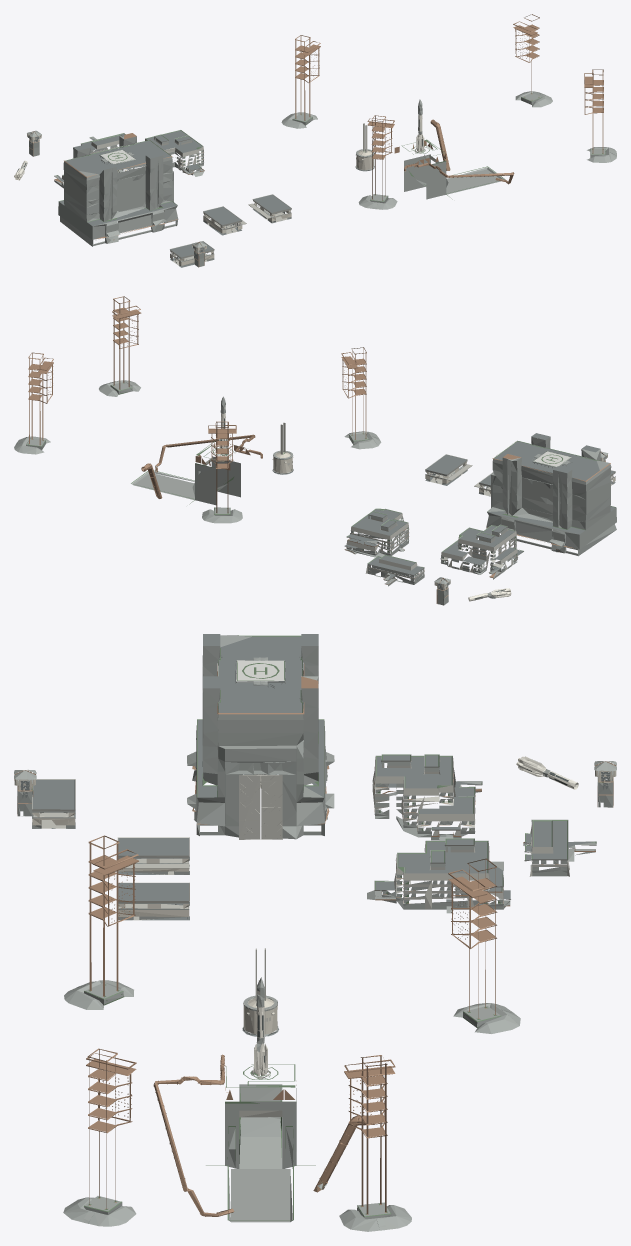
Rendered from launch_site_1.glb.
3 views of the same model, one above another, from view 1: azimuth 30°, elevation 25°; view 2: azimuth 150°, elevation 25°; view 3: azimuth 270°, elevation 25° (orthographic). The views are drawn at different scales.
Visible parts, largest first — view 1: rocket_factory_silo_LOD0, range_core_exterior_LOD0; view 2: rocket_factory_silo_LOD0, range_core_exterior_LOD0; view 3: rocket_factory_silo_LOD0, range_core_exterior_LOD0, rocket_boosters_stage_a_LOD0, rocket_factory_scaffolding_LOD0.
Boxes of the visible parts, bbox=[...] form: rocket_factory_silo_LOD0: bbox=[14, 91, 616, 267]; range_core_exterior_LOD0: bbox=[29, 14, 603, 267]; rocket_factory_silo_LOD0: bbox=[14, 380, 616, 605]; range_core_exterior_LOD0: bbox=[28, 296, 610, 605]; rocket_factory_silo_LOD0: bbox=[14, 634, 616, 1231]; range_core_exterior_LOD0: bbox=[14, 664, 615, 1216]; rocket_boosters_stage_a_LOD0: bbox=[253, 756, 578, 1075]; rocket_factory_scaffolding_LOD0: bbox=[236, 660, 284, 774].
Size of the model in its own units: 459 by 110 by 253.
